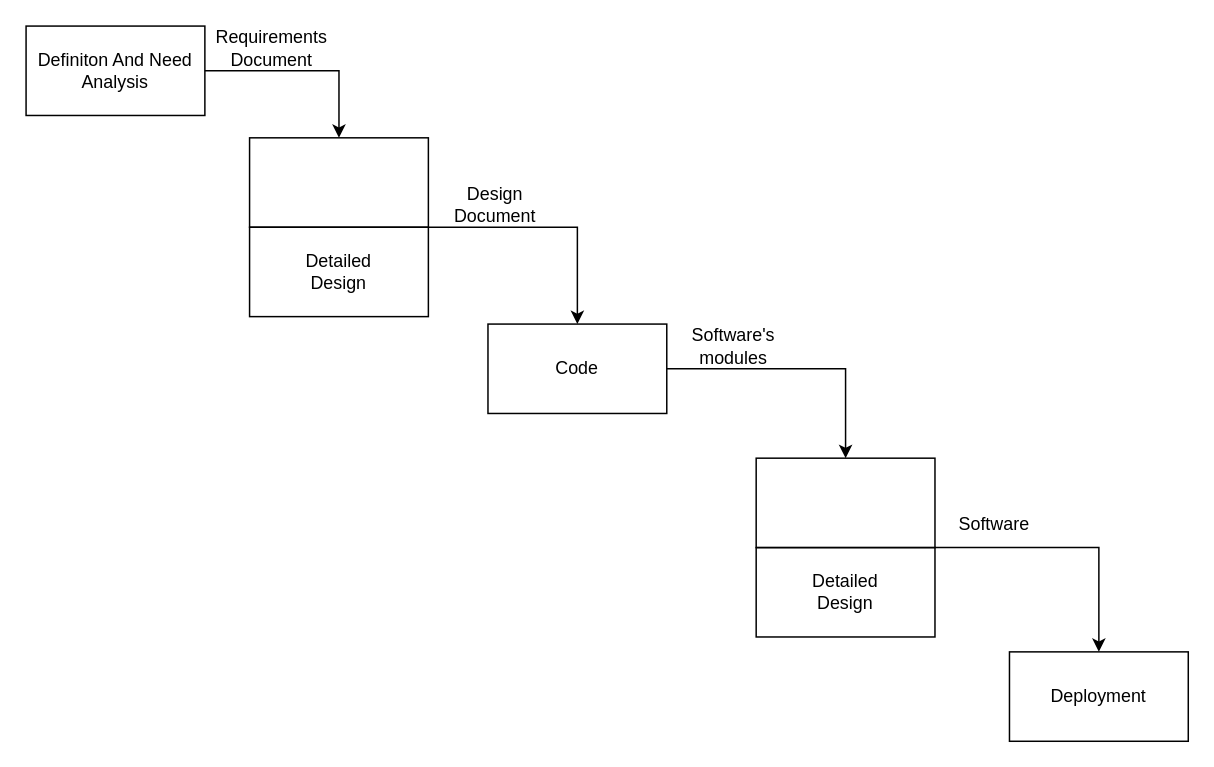
Image size: 1214x767. Some labels were removed from this diagram. The shapes that lost their labels are listed below. From the top down, each one's box as (x1, y1, x2, y2) in pixels, then its label:
(248, 136, 428, 227): Architectural Design
(755, 457, 935, 548): Unit Testing
